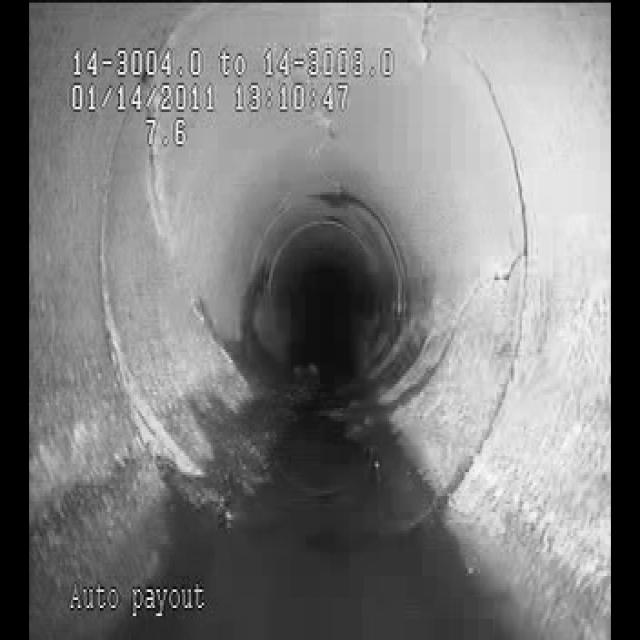Fracture: (440, 203, 550, 361)
